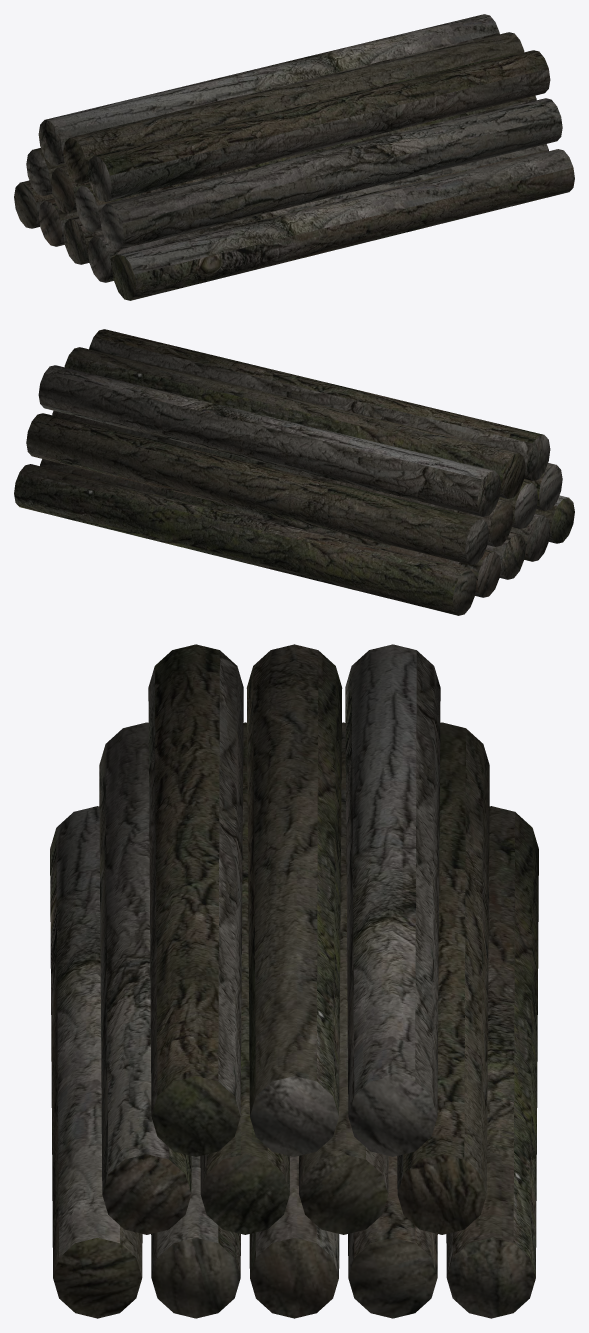
The model's file is sawmill_log_stack.glb.
3 renders of one model, top to bottom at view 1: azimuth 30°, elevation 25°; view 2: azimuth 150°, elevation 25°; view 3: azimuth 270°, elevation 25°, orthographic. The views are drawn at different scales.
Parts seen in each view (by area): view 1: LogStack; view 2: LogStack; view 3: LogStack.
Boxes of the visible parts, x1,y1,x2,y2 form: LogStack: [14, 14, 574, 300]; LogStack: [14, 329, 574, 615]; LogStack: [50, 644, 538, 1318].
Bounding box in the file's own units: 6.6 × 1.78 × 3.18.
1 material, 1 textured.
